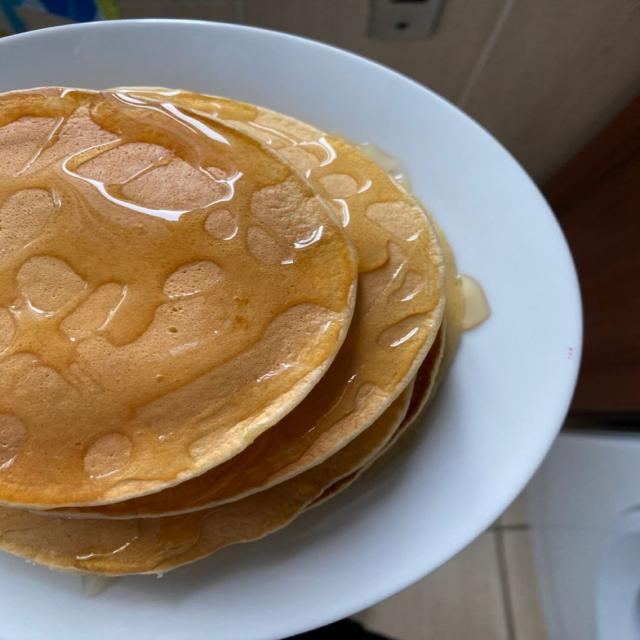pancake: (60, 89, 443, 518), (0, 89, 356, 507), (0, 384, 411, 575), (307, 227, 465, 508), (307, 325, 446, 508)
